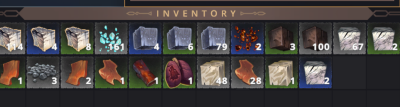chaos ember: (231, 23, 263, 53)
ethereal dust: (94, 22, 127, 53)
granite stone: (128, 23, 160, 53), (163, 23, 195, 53), (197, 23, 229, 53)
limestone stone: (60, 24, 93, 53), (28, 23, 59, 53), (1, 23, 24, 54)
marble stone: (300, 57, 329, 89), (333, 23, 364, 52), (368, 23, 398, 52)
slate stone: (298, 23, 331, 53), (266, 24, 297, 53)
strong hide: (62, 56, 92, 86), (1, 57, 24, 87)
tough hide: (231, 56, 263, 87), (95, 56, 125, 86)
travertine stone: (197, 56, 229, 87), (266, 57, 296, 87)
yew log: (130, 56, 160, 87)
